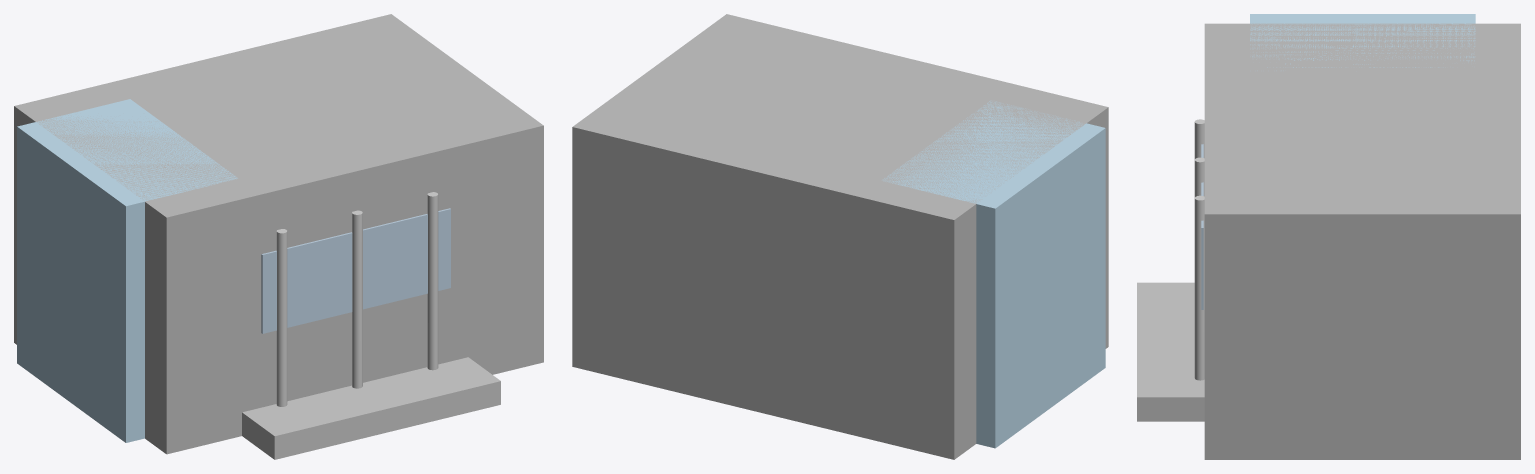
File: env-mod-library.glb
The picture shows the model from 3 angles, left to right: view 1: azimuth 30°, elevation 25°; view 2: azimuth 150°, elevation 25°; view 3: azimuth 270°, elevation 25°; orthographic projection. The views are drawn at different scales.
Bounding box in the file's own units: 10.5 × 6 × 8.5.
